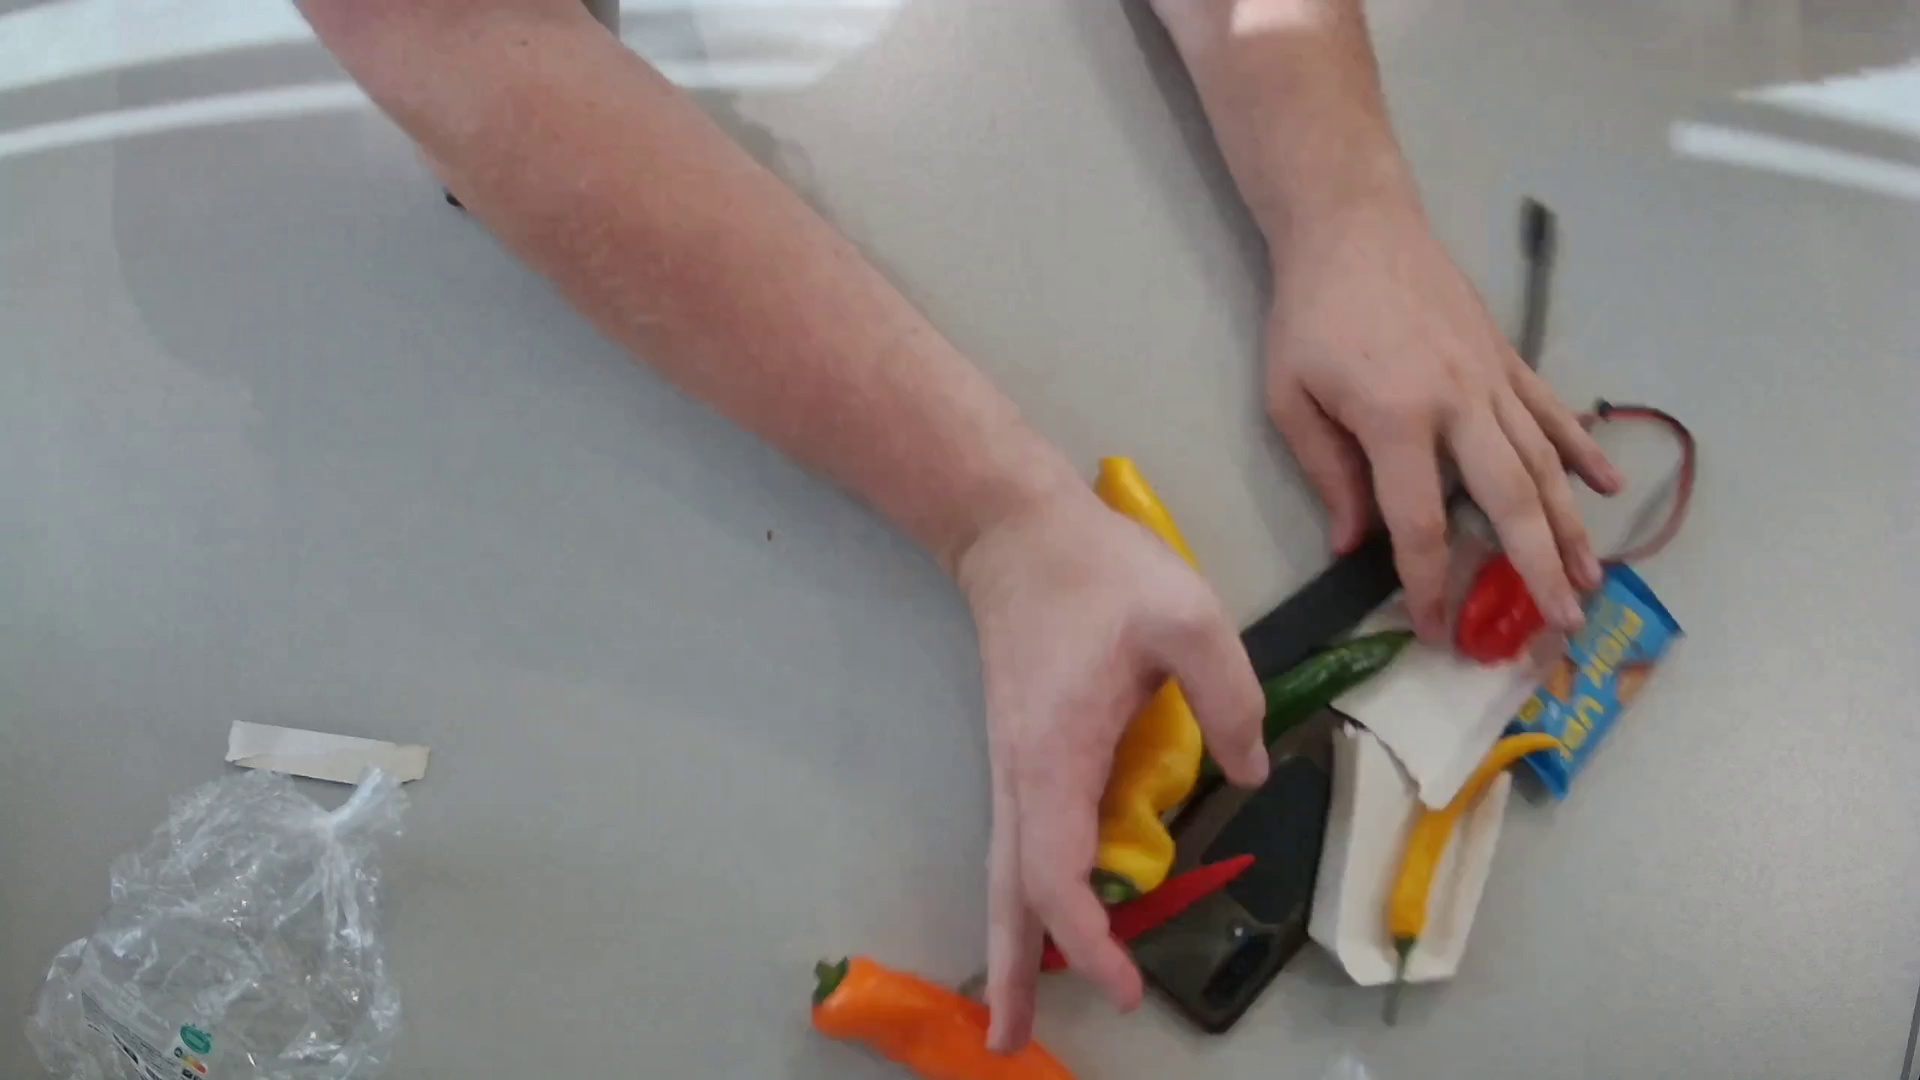Spanish_Pepper_Red: (957, 851, 1253, 992)
